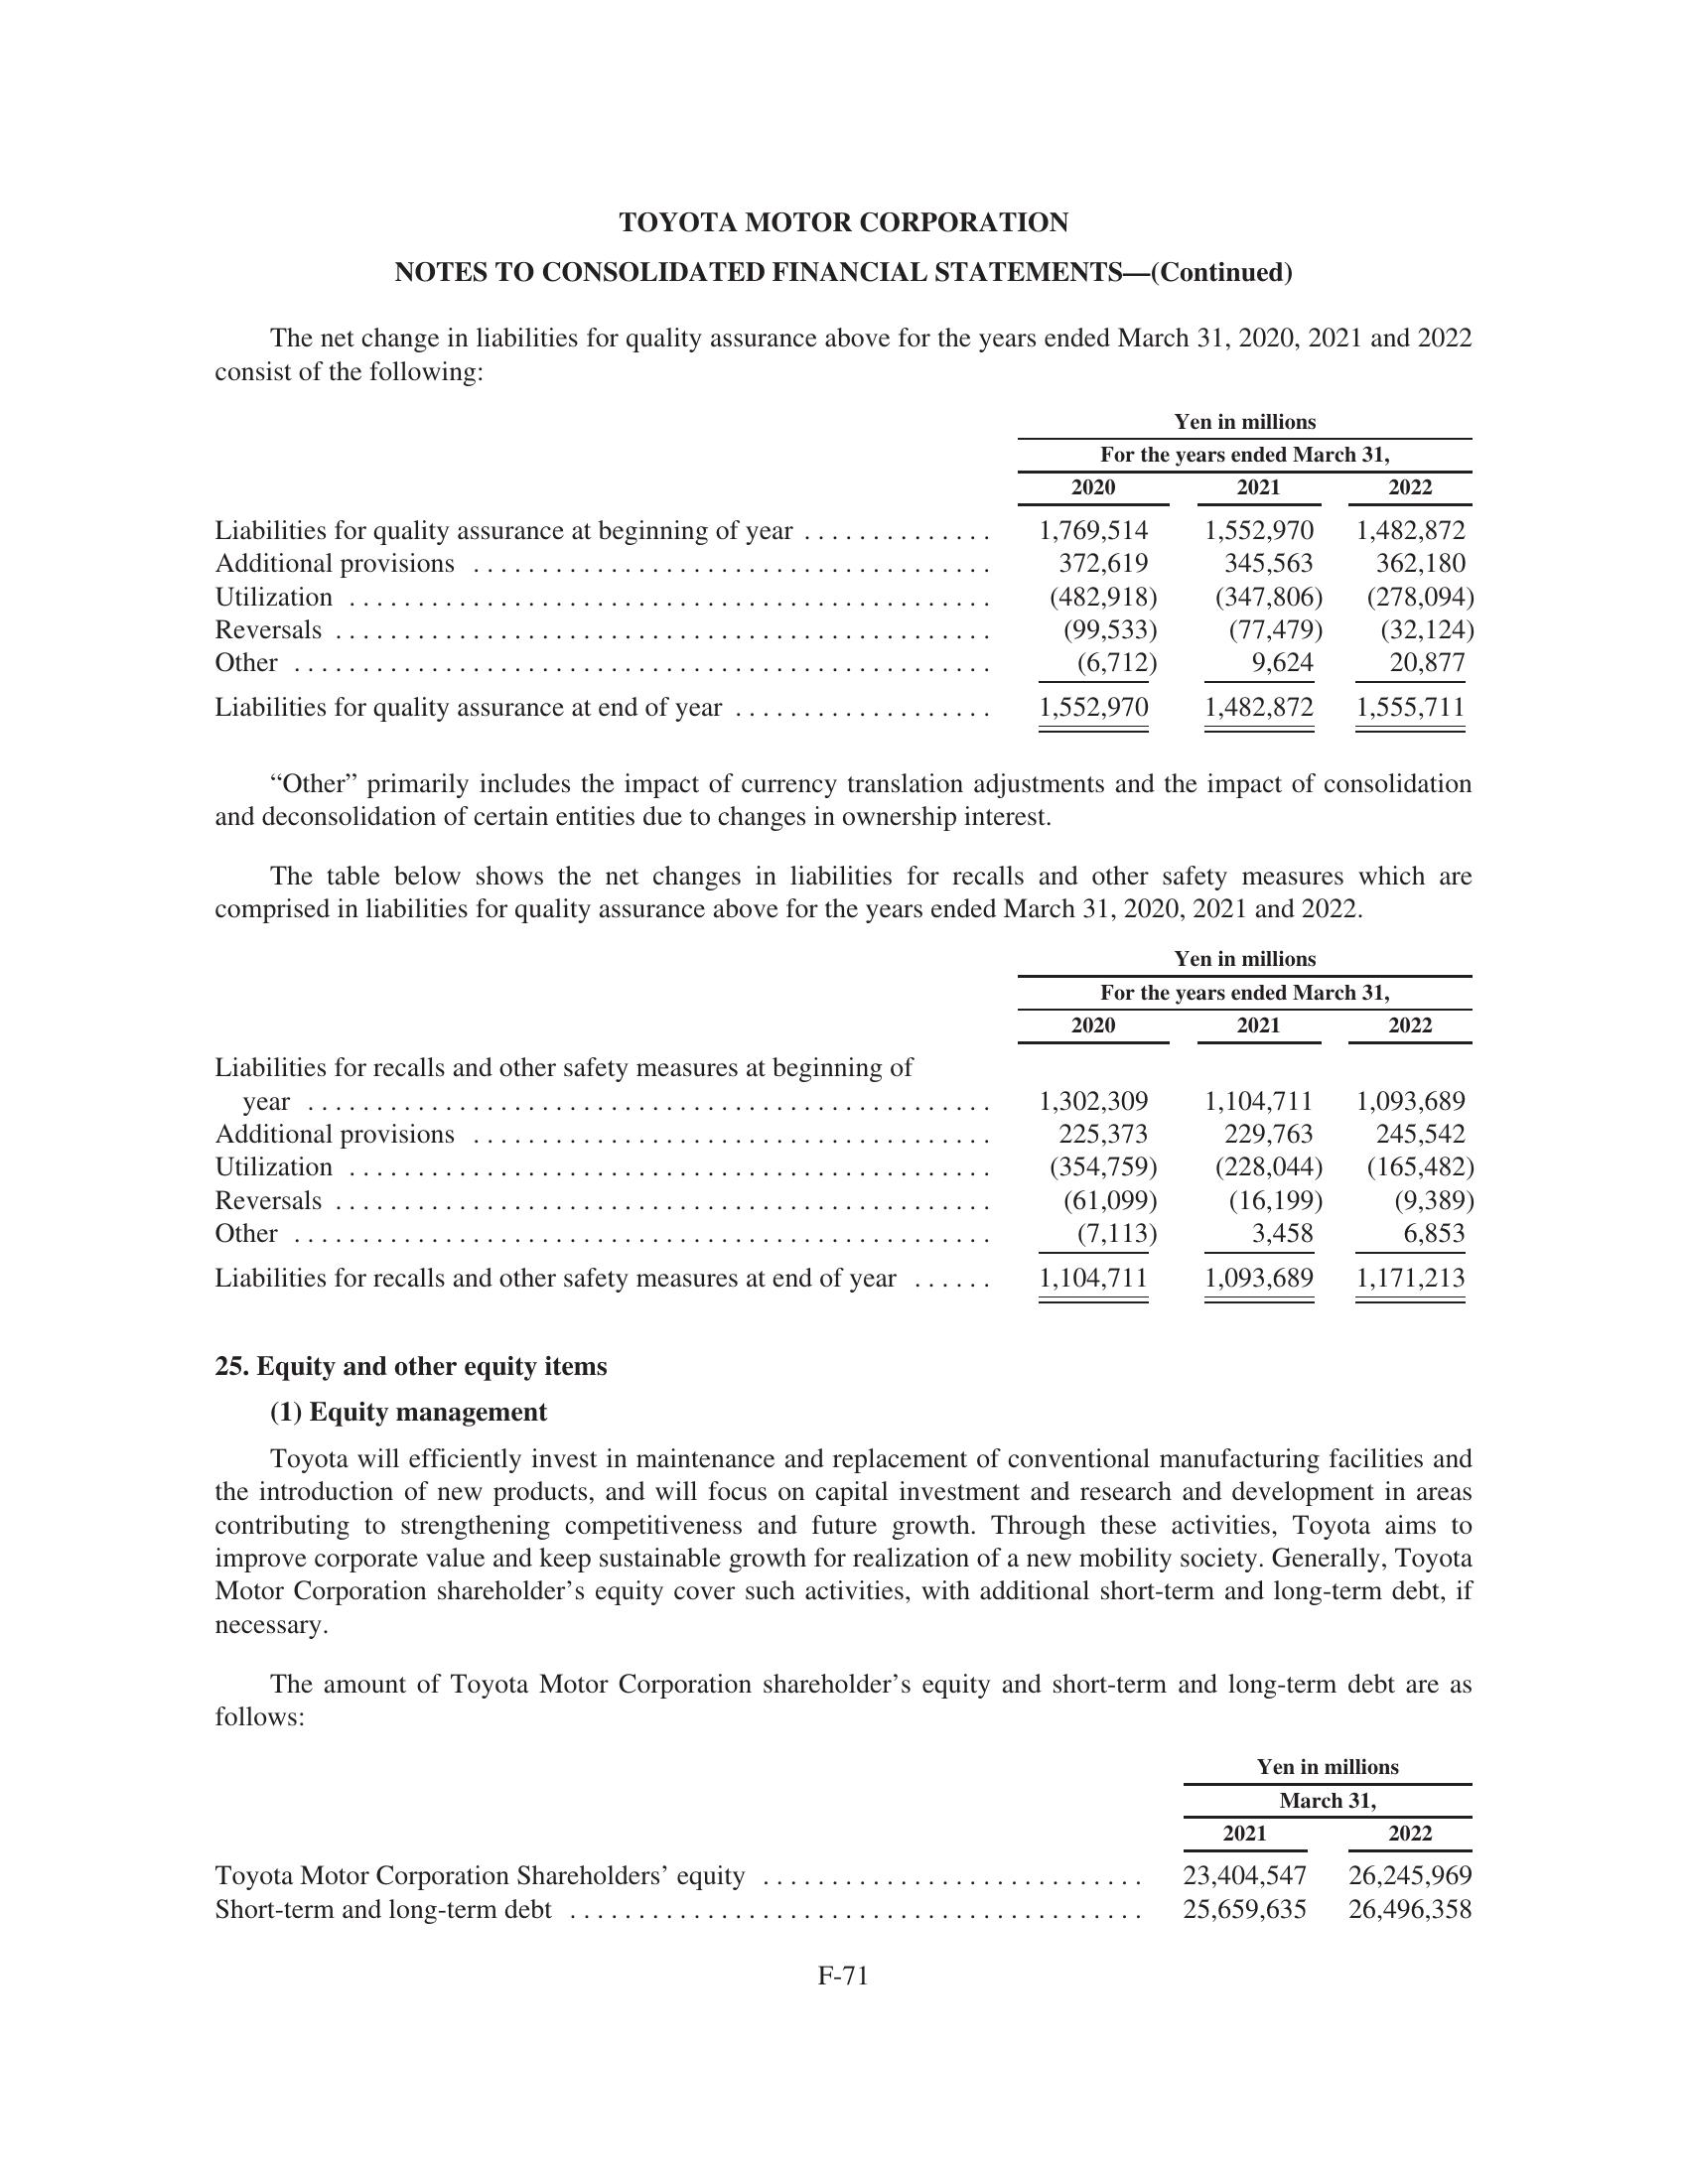Footer: (0, 1950, 1688, 2184)
Header: (0, 0, 1688, 188)
Table: (87, 374, 1495, 750), (129, 941, 1488, 1303), (133, 1744, 1500, 1932)
